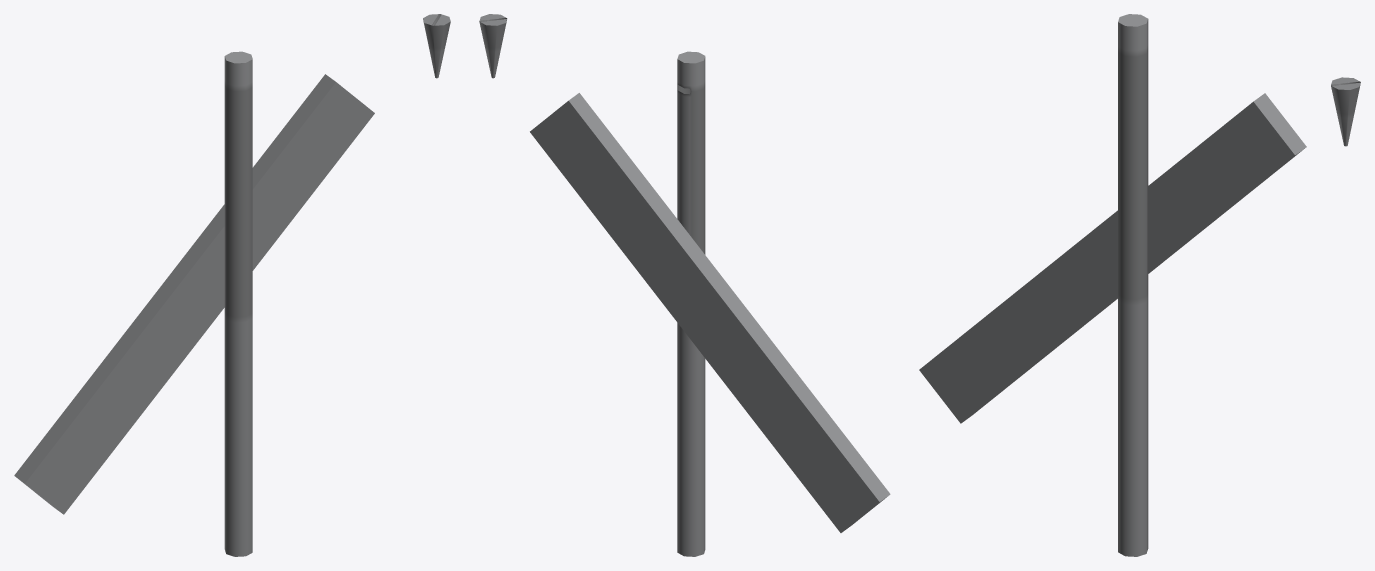
3 renders of one model, left to right at view 1: azimuth 30°, elevation 25°; view 2: azimuth 150°, elevation 25°; view 3: azimuth 330°, elevation 25°, orthographic. The views are drawn at different scales.
Size of the model in its own units: 0.345 by 0.39 by 0.0364.
